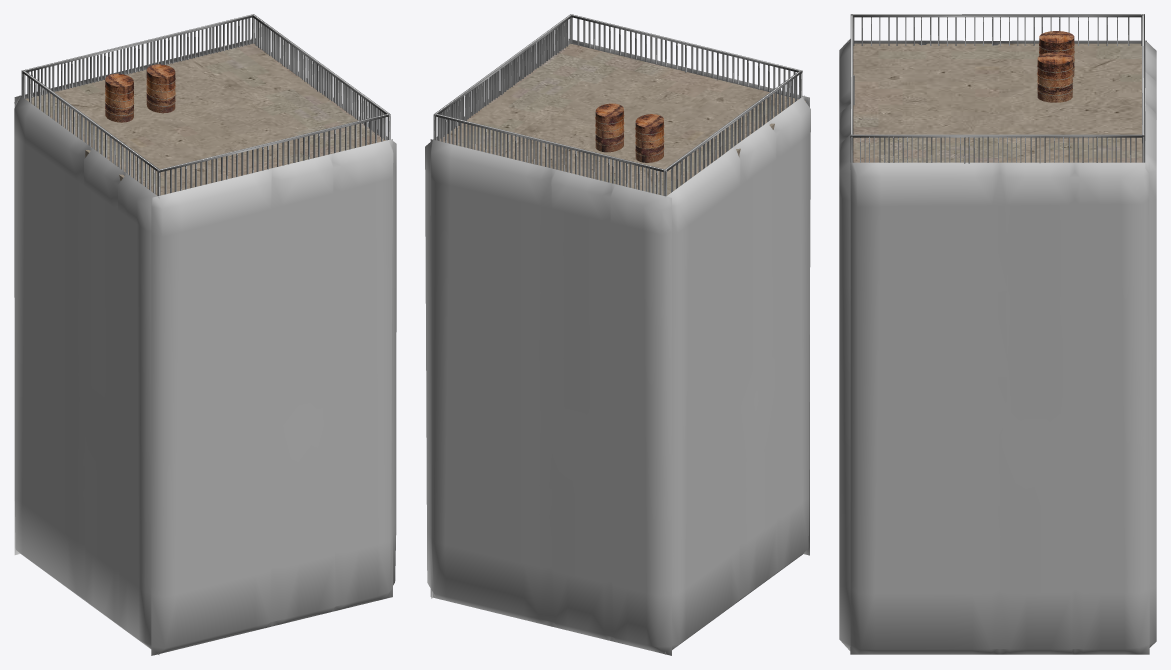
The model's file is Mordern Building5(05-08).FBX.
3 renders of one model, left to right at view 1: azimuth 30°, elevation 25°; view 2: azimuth 150°, elevation 25°; view 3: azimuth 270°, elevation 25°, orthographic. The views are drawn at different scales.
Visible parts, largest first — view 1: Plane001, Box001, Box002, Cylinder001; view 2: Plane001, Box001, Box002, Cylinder001; view 3: Plane001, Box001, Box002, Cylinder001.
Boxes of the visible parts, bbox=[...] form: Plane001: bbox=[14, 38, 396, 655]; Box001: bbox=[18, 43, 385, 195]; Box002: bbox=[21, 14, 390, 195]; Cylinder001: bbox=[105, 64, 175, 122]; Plane001: bbox=[425, 39, 810, 655]; Box001: bbox=[440, 43, 805, 195]; Box002: bbox=[433, 14, 802, 196]; Cylinder001: bbox=[595, 103, 664, 162]; Plane001: bbox=[839, 39, 1156, 654]; Box001: bbox=[853, 43, 1142, 162]; Box002: bbox=[850, 14, 1144, 163]; Cylinder001: bbox=[1037, 31, 1074, 102].
Bounding box in the file's own units: 166 × 310 × 169.
